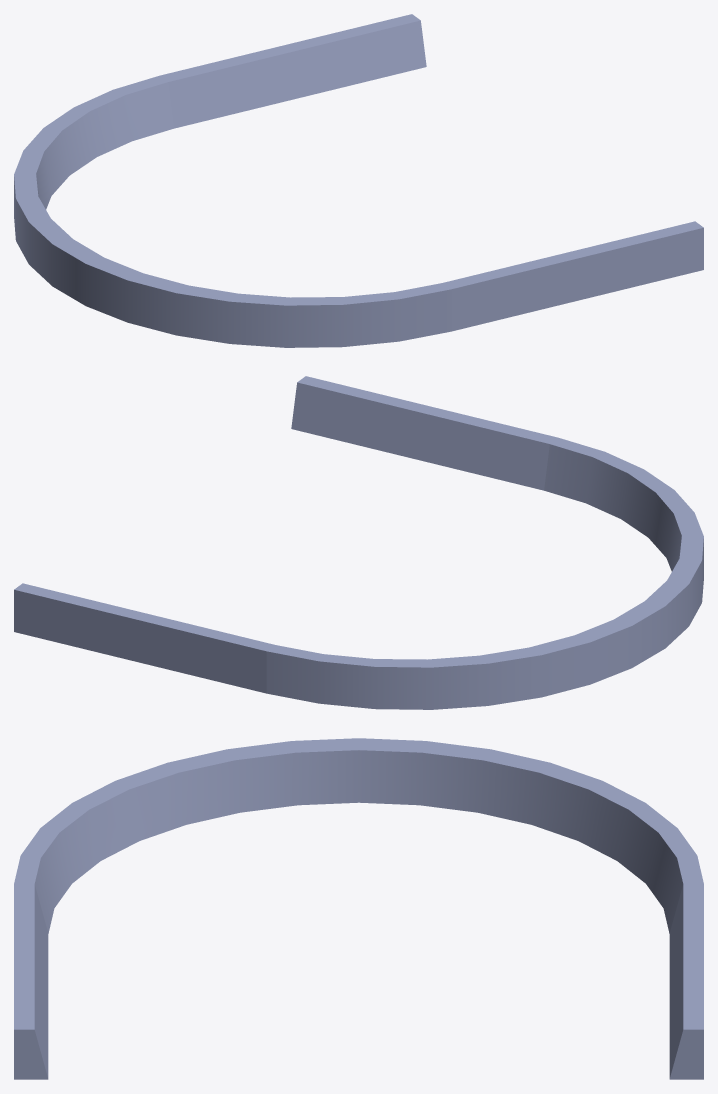
File: road-end-round-barrier.glb
3 views of the same model, one above another, from view 1: azimuth 30°, elevation 25°; view 2: azimuth 150°, elevation 25°; view 3: azimuth 270°, elevation 25° (orthographic). The views are drawn at different scales.
Visible parts, largest first — view 1: road-end-round-barrier; view 2: road-end-round-barrier; view 3: road-end-round-barrier.
Boxes of the visible parts, left/top/right/bottom form: road-end-round-barrier: left=14, top=14, right=703, bottom=347; road-end-round-barrier: left=14, top=376, right=703, bottom=709; road-end-round-barrier: left=14, top=738, right=703, bottom=1079.
Size of the model in its own units: 10 by 0.7996 by 10.
1 material, 1 textured.
